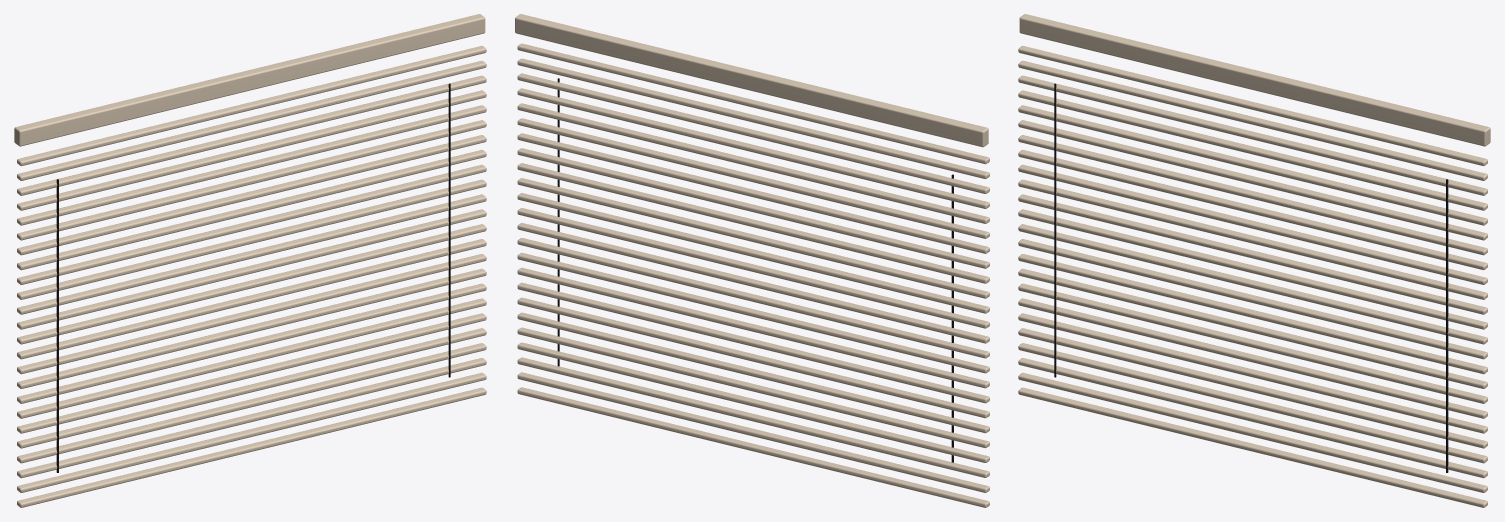
The model's file is p2s_video_so_ong_arachne_wood_blind.glb.
3 renders of one model, left to right at view 1: azimuth 30°, elevation 25°; view 2: azimuth 150°, elevation 25°; view 3: azimuth 330°, elevation 25°, orthographic.
Parts seen in each view (by area): view 1: blind_top_header, wooden_blind_slat, wooden_blind_slat.001, wooden_blind_slat.023, wooden_blind_slat.022, wooden_blind_slat.021, wooden_blind_slat.006, wooden_blind_slat.019, wooden_blind_slat.020, wooden_blind_slat.004, wooden_blind_slat.005, wooden_blind_slat.007 (+15 smaller); view 2: blind_top_header, wooden_blind_slat.004, wooden_blind_slat.018, wooden_blind_slat.022, wooden_blind_slat.002, wooden_blind_slat.003, wooden_blind_slat.011, wooden_blind_slat.020, wooden_blind_slat.023, wooden_blind_slat.006, wooden_blind_slat.007, wooden_blind_slat.013 (+13 smaller); view 3: blind_top_header, wooden_blind_slat, wooden_blind_slat.001, wooden_blind_slat.023, wooden_blind_slat.022, wooden_blind_slat.021, wooden_blind_slat.006, wooden_blind_slat.019, wooden_blind_slat.020, wooden_blind_slat.004, wooden_blind_slat.005, wooden_blind_slat.007 (+15 smaller).
Part boxes in pixels (<box>): blind_top_header: <box>14,14,485,146</box>; wooden_blind_slat: <box>17,387,486,507</box>; wooden_blind_slat.001: <box>17,372,486,492</box>; wooden_blind_slat.023: <box>17,46,486,166</box>; wooden_blind_slat.022: <box>17,60,486,180</box>; wooden_blind_slat.021: <box>17,75,486,195</box>; wooden_blind_slat.006: <box>17,298,486,418</box>; wooden_blind_slat.019: <box>17,105,486,225</box>; wooden_blind_slat.020: <box>17,90,486,210</box>; wooden_blind_slat.004: <box>17,328,486,448</box>; wooden_blind_slat.005: <box>17,313,486,433</box>; wooden_blind_slat.007: <box>17,283,486,403</box>; blind_top_header: <box>515,14,988,147</box>; wooden_blind_slat.004: <box>517,327,989,448</box>; wooden_blind_slat.018: <box>517,118,989,238</box>; wooden_blind_slat.022: <box>517,58,989,179</box>; wooden_blind_slat.002: <box>517,357,989,477</box>; wooden_blind_slat.003: <box>517,342,989,462</box>; wooden_blind_slat.011: <box>517,223,989,343</box>; wooden_blind_slat.020: <box>517,88,989,208</box>; wooden_blind_slat.023: <box>517,43,989,164</box>; wooden_blind_slat.006: <box>517,297,989,418</box>; wooden_blind_slat.007: <box>517,282,989,403</box>; wooden_blind_slat.013: <box>517,193,989,313</box>; blind_top_header: <box>1019,14,1490,146</box>; wooden_blind_slat: <box>1018,387,1487,507</box>; wooden_blind_slat.001: <box>1018,372,1487,492</box>; wooden_blind_slat.023: <box>1018,46,1487,166</box>; wooden_blind_slat.022: <box>1018,60,1487,180</box>; wooden_blind_slat.021: <box>1018,75,1487,195</box>; wooden_blind_slat.006: <box>1018,298,1487,418</box>; wooden_blind_slat.019: <box>1018,105,1487,225</box>; wooden_blind_slat.020: <box>1018,90,1487,210</box>; wooden_blind_slat.004: <box>1018,328,1487,448</box>; wooden_blind_slat.005: <box>1018,313,1487,433</box>; wooden_blind_slat.007: <box>1018,283,1487,403</box>.
Size of the model in its own units: 1.2 by 0.9263 by 0.0327.
